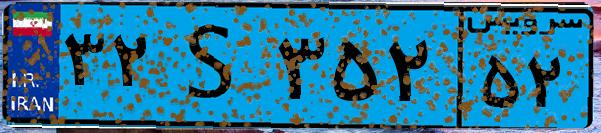2: (385, 28, 445, 110), (525, 38, 570, 115), (110, 28, 158, 98)
3: (270, 28, 330, 110), (57, 26, 110, 100)
5: (330, 28, 385, 110), (475, 38, 525, 113)
S: (158, 12, 270, 120)
